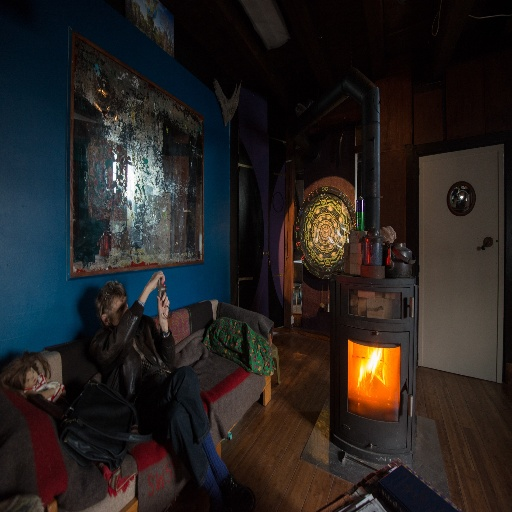hand: (141, 284, 173, 344), (149, 268, 166, 289)
